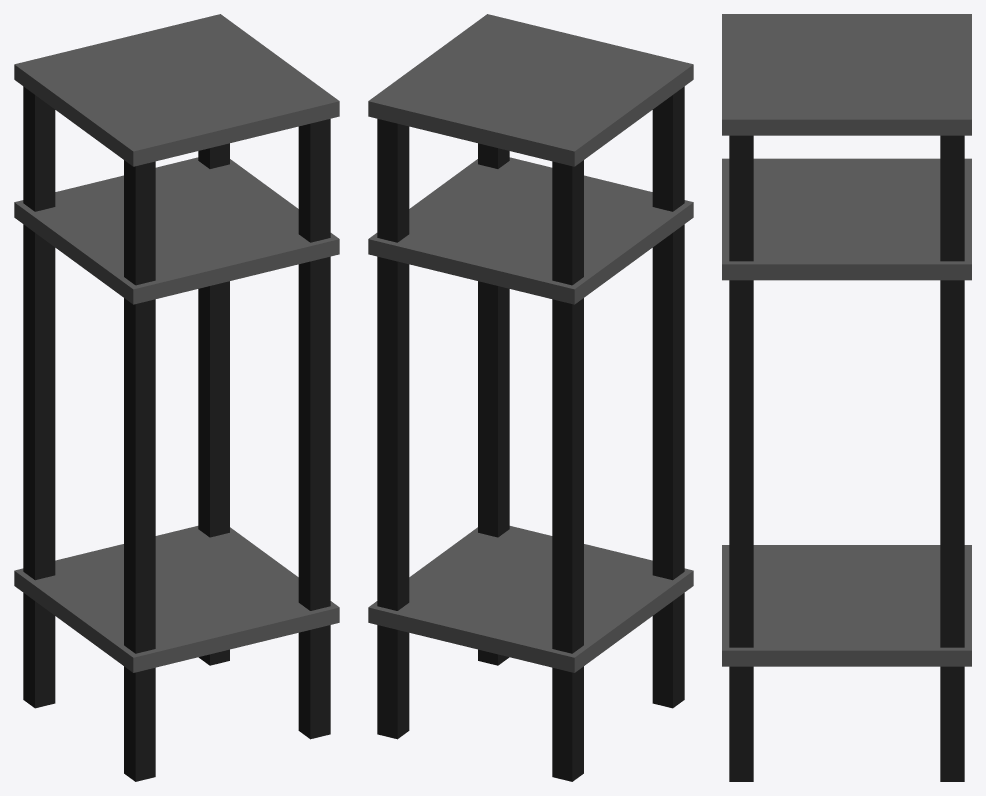
File: Prop_Shelve_11.fbx
The picture shows the model from 3 angles, left to right: view 1: azimuth 30°, elevation 25°; view 2: azimuth 150°, elevation 25°; view 3: azimuth 270°, elevation 25°; orthographic projection. The views are drawn at different scales.
Visible parts, largest first — view 1: Prop_Shelve_11; view 2: Prop_Shelve_11; view 3: Prop_Shelve_11.
Part boxes in pixels (left/top/right/bottom): Prop_Shelve_11: left=14, top=14, right=339, bottom=781; Prop_Shelve_11: left=368, top=14, right=693, bottom=781; Prop_Shelve_11: left=722, top=14, right=971, bottom=781.
Size of the model in its own units: 57.96 by 170 by 57.96.
